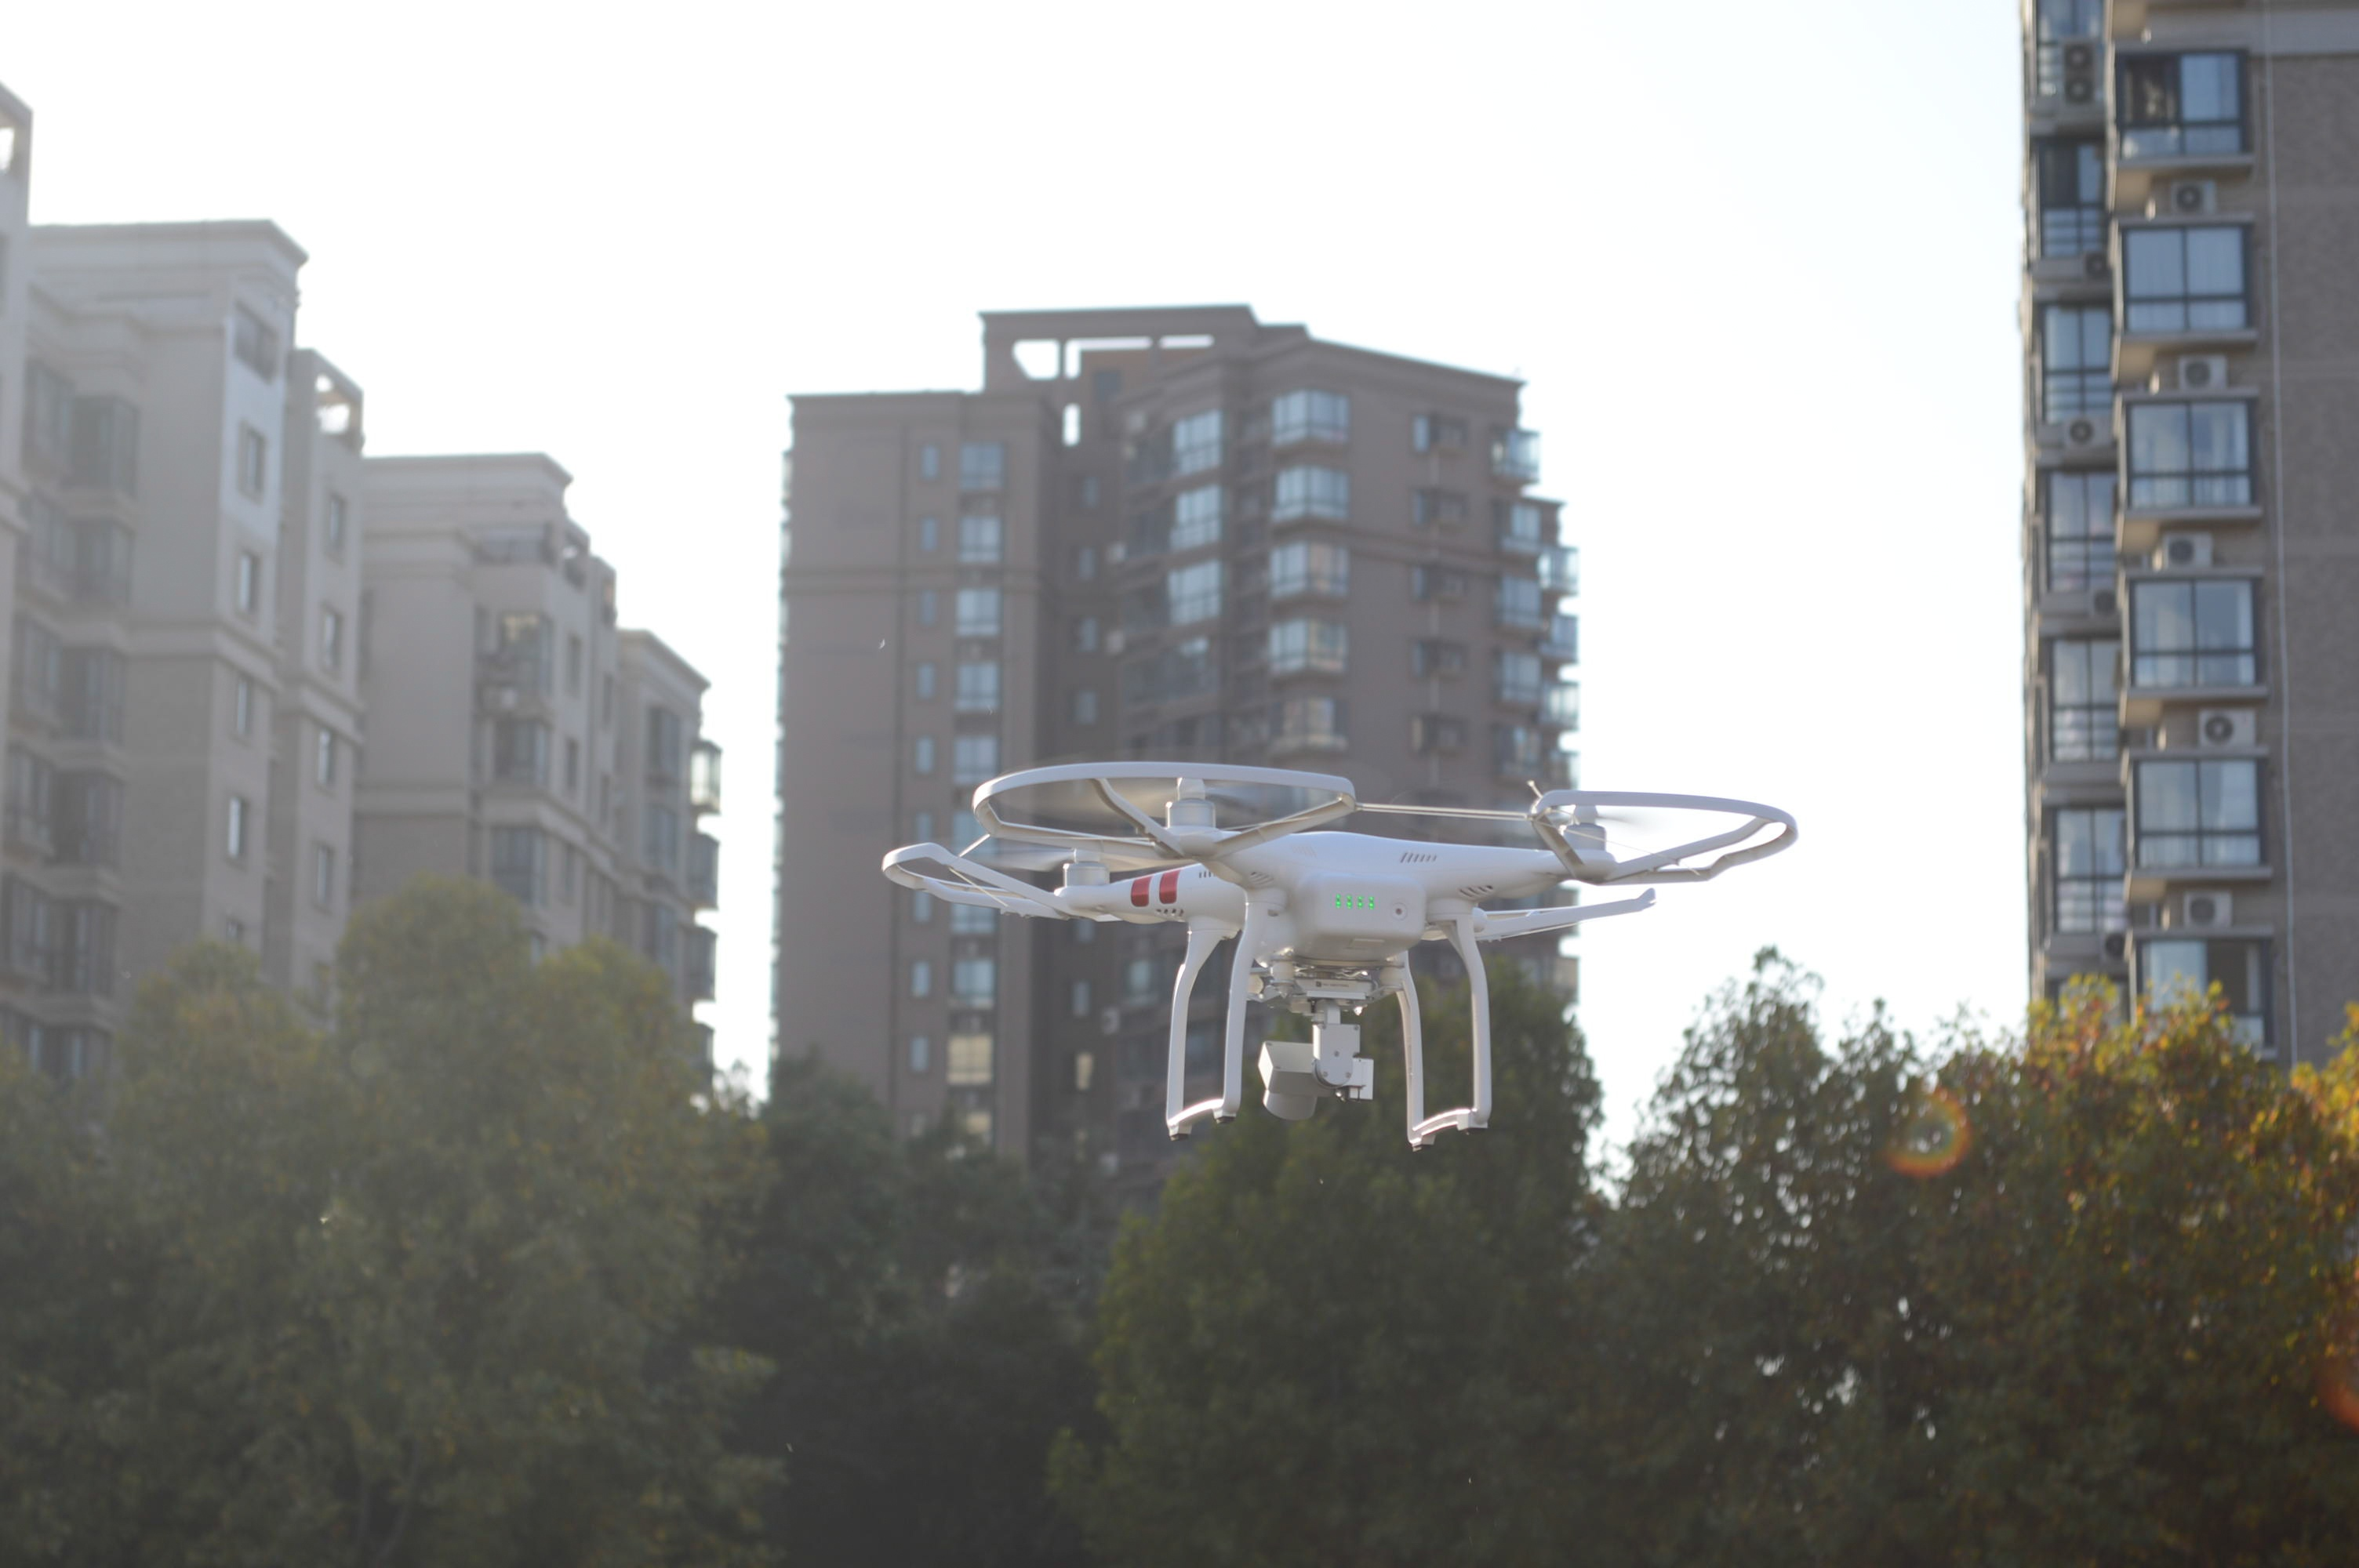DJI: (879, 752, 1801, 1155)
